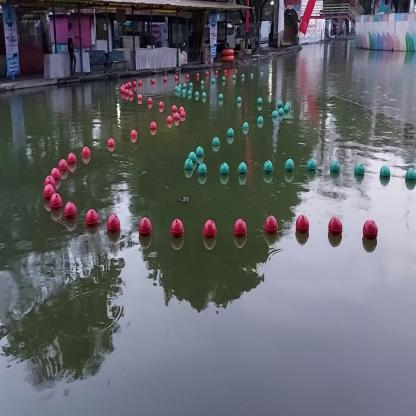green_buoy: (404, 170, 416, 194), (380, 164, 391, 186), (238, 160, 248, 182), (220, 162, 231, 180), (184, 160, 194, 179), (306, 156, 316, 174), (285, 158, 295, 176), (355, 162, 365, 180), (265, 156, 273, 178), (188, 151, 197, 169), (226, 125, 234, 142), (332, 158, 340, 174), (199, 164, 206, 178), (197, 144, 203, 160), (257, 116, 265, 127), (243, 122, 249, 136), (213, 138, 220, 150)
red_buoy: (264, 211, 279, 240), (139, 213, 154, 240), (107, 213, 120, 242), (64, 201, 79, 226), (170, 217, 186, 239), (363, 222, 379, 244), (204, 219, 217, 246), (296, 214, 309, 238), (52, 193, 64, 217), (44, 185, 57, 207), (235, 220, 248, 242), (330, 218, 342, 240), (51, 166, 61, 186), (87, 210, 98, 228), (44, 175, 54, 194), (60, 160, 68, 179), (68, 153, 77, 169), (83, 147, 91, 162), (130, 130, 139, 142), (108, 137, 116, 150), (167, 114, 174, 128), (150, 121, 156, 136)
